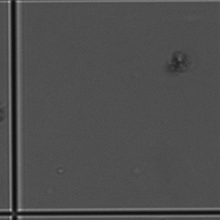Dead Cell: (166, 47, 193, 75)
